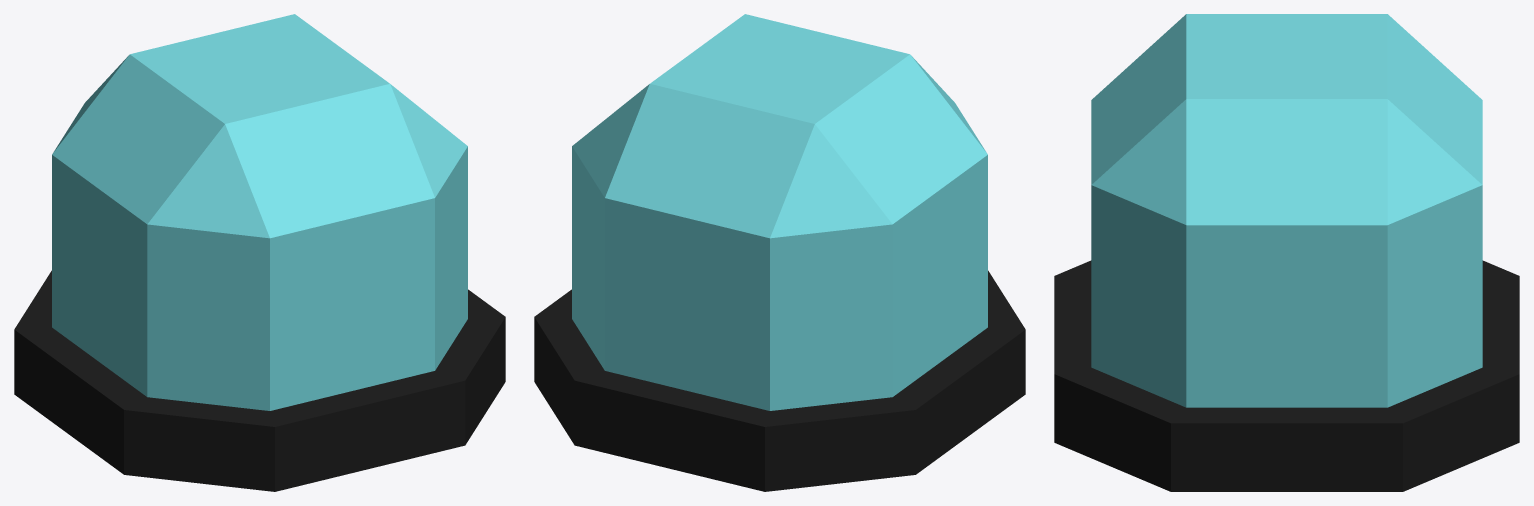
Rendered from SnowGlobel.fbx.
The picture shows the model from 3 angles, left to right: view 1: azimuth 30°, elevation 25°; view 2: azimuth 150°, elevation 25°; view 3: azimuth 270°, elevation 25°; orthographic projection. The views are drawn at different scales.
Visible parts, largest first — view 1: SnowGlobel; view 2: SnowGlobel; view 3: SnowGlobel.
Part boxes in pixels (x1,y1,x2,y2): SnowGlobel: (14,14,505,491); SnowGlobel: (534,14,1025,491); SnowGlobel: (1054,14,1519,491).
Bounding box in the file's own units: 238 × 190 × 238.
